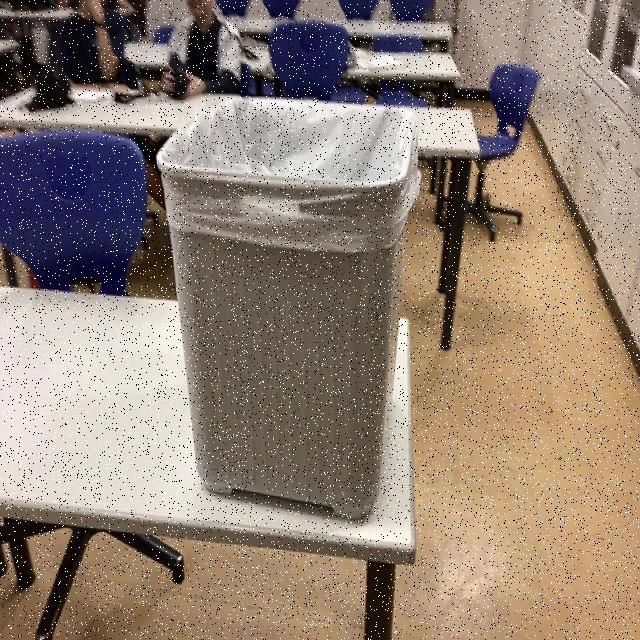garbage container: (122, 54, 432, 546)
